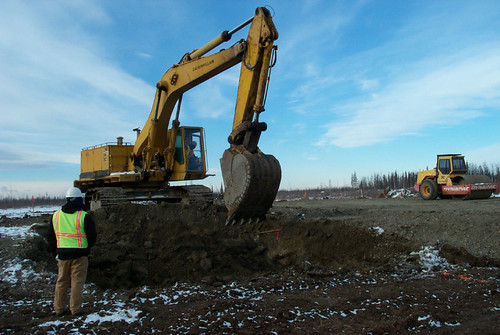person hardhat: (49, 186, 95, 320), (184, 134, 202, 168)
